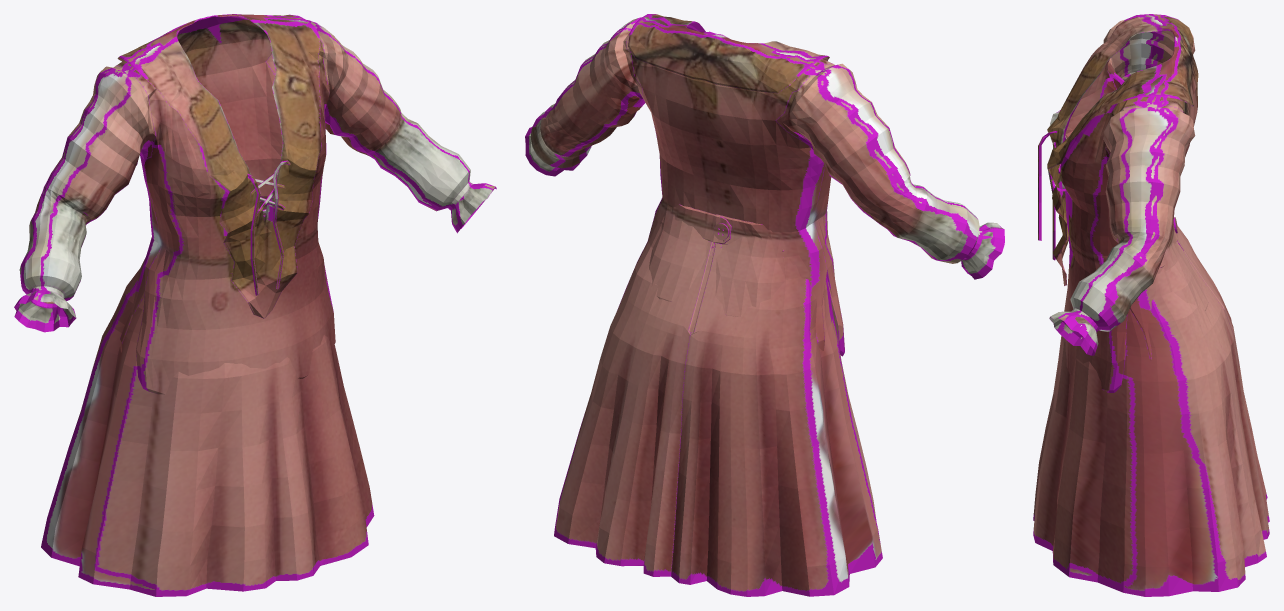
3 views of the same model, side by side, from view 1: azimuth 30°, elevation 25°; view 2: azimuth 150°, elevation 25°; view 3: azimuth 270°, elevation 25° (orthographic). The views are drawn at different scales.
Size of the model in its own units: 0.7963 by 0.8184 by 0.3584.
1 material, 1 textured.
